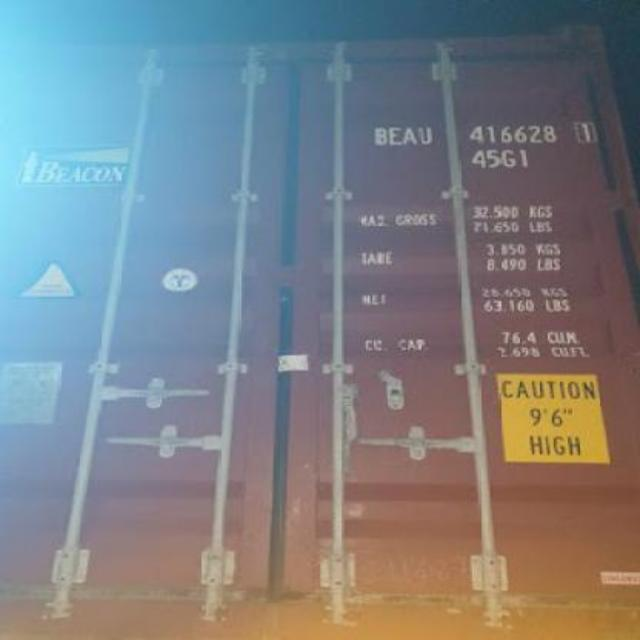1: (484, 118, 502, 146), (574, 121, 598, 142)
2: (532, 122, 546, 144)
4: (468, 122, 488, 144)
6: (512, 118, 534, 144), (500, 119, 518, 145)
8: (540, 116, 560, 146)
A: (404, 117, 420, 153)
B: (367, 116, 388, 148)
E: (388, 120, 404, 150)
U: (416, 122, 440, 150)
